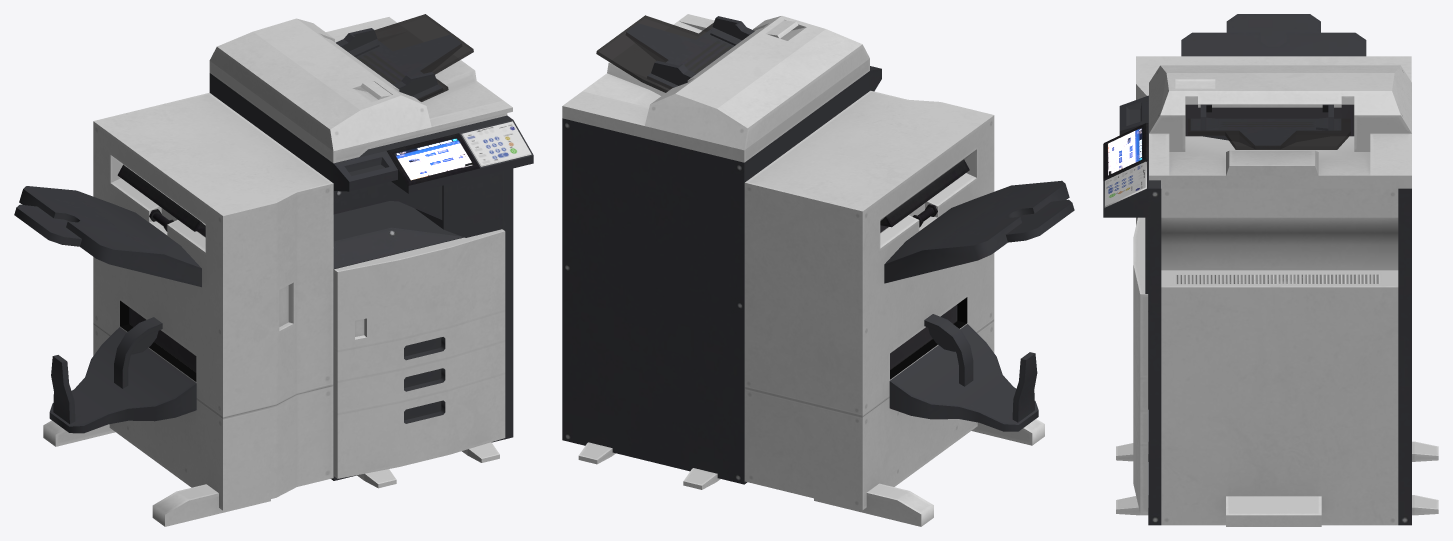
The picture shows the model from 3 angles, left to right: view 1: azimuth 30°, elevation 25°; view 2: azimuth 150°, elevation 25°; view 3: azimuth 270°, elevation 25°; orthographic projection. The views are drawn at different scales.
Parts seen in each view (by area): view 1: CopyMachineBody (×2); view 2: CopyMachineBody (×2); view 3: CopyMachineBody (×2).
Boxes of the visible parts, left/top/right/bottom form: CopyMachineBody (×2): left=14, top=14, right=533, bottom=526; CopyMachineBody (×2): left=562, top=14, right=1074, bottom=526; CopyMachineBody (×2): left=1103, top=14, right=1438, bottom=526.
Bounding box in the file's own units: 2 × 1.55 × 1.22.
2 materials, 2 textured.
